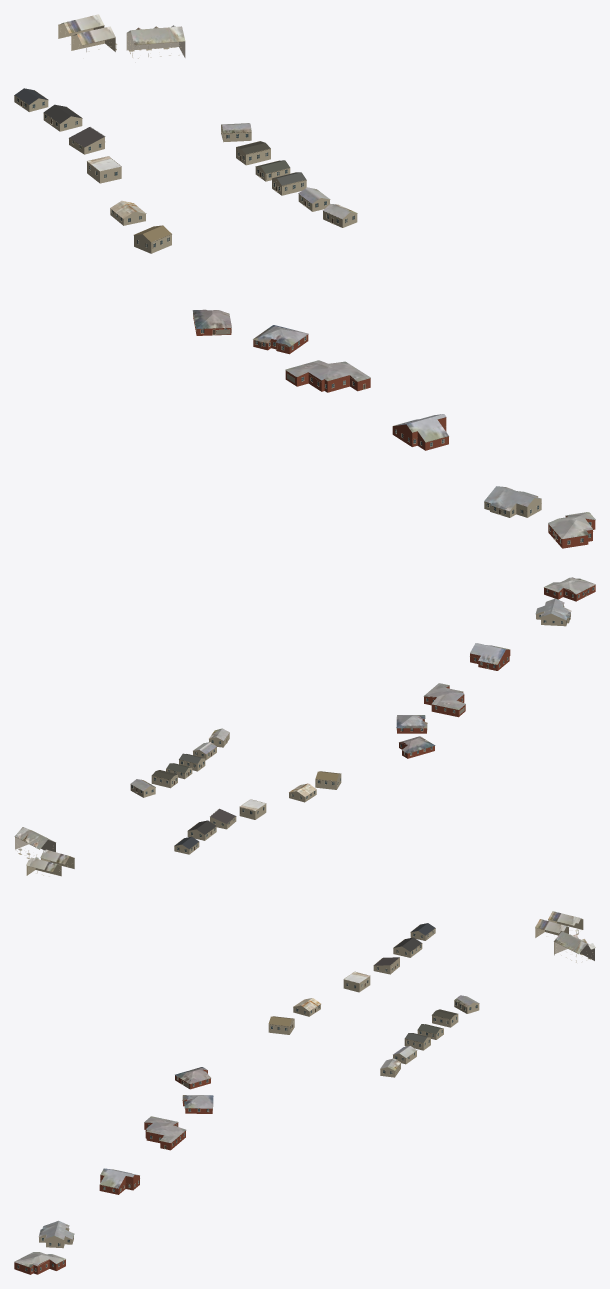
The picture shows the model from 3 angles, top to bottom: view 1: azimuth 30°, elevation 25°; view 2: azimuth 150°, elevation 25°; view 3: azimuth 330°, elevation 25°; orthographic projection. The views are drawn at different scales.
Visible parts, largest first — view 1: -2_10_608377035_0, -2_10_608400207_28, -2_10_608377036_1; view 2: -2_10_608377035_0, -2_10_608400207_28, -2_10_608377036_1; view 3: -2_10_608377035_0, -2_10_608400207_28, -2_10_608377036_1.
Boxes of the visible parts, x1,y1,x2,y2 form: -2_10_608377035_0: (14,14,595,544); -2_10_608400207_28: (193,317,595,548); -2_10_608377036_1: (15,88,306,242); -2_10_608377035_0: (14,577,595,876); -2_10_608400207_28: (397,585,595,758); -2_10_608377036_1: (152,753,340,849); -2_10_608377035_0: (14,911,595,1271); -2_10_608400207_28: (14,1069,212,1274); -2_10_608377036_1: (268,923,457,1042).
Size of the model in its own units: 132 by 29 by 518.
13 materials, 1 textured.
